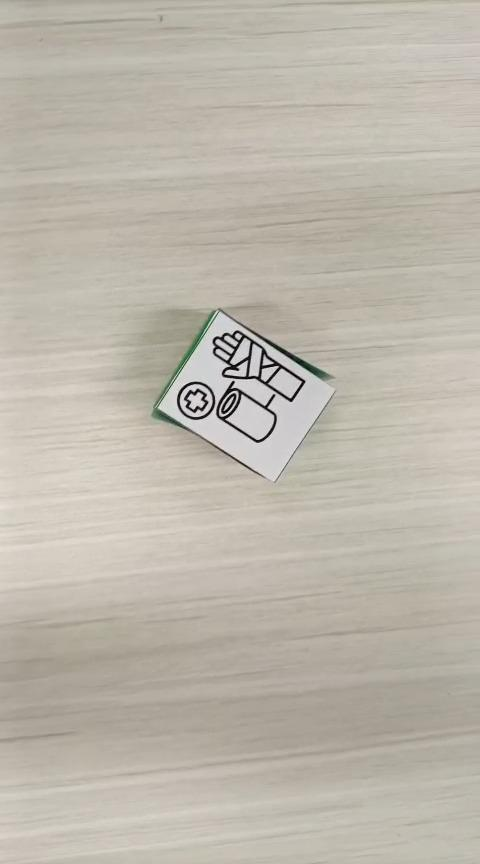Bandages: (152, 306, 336, 483)
